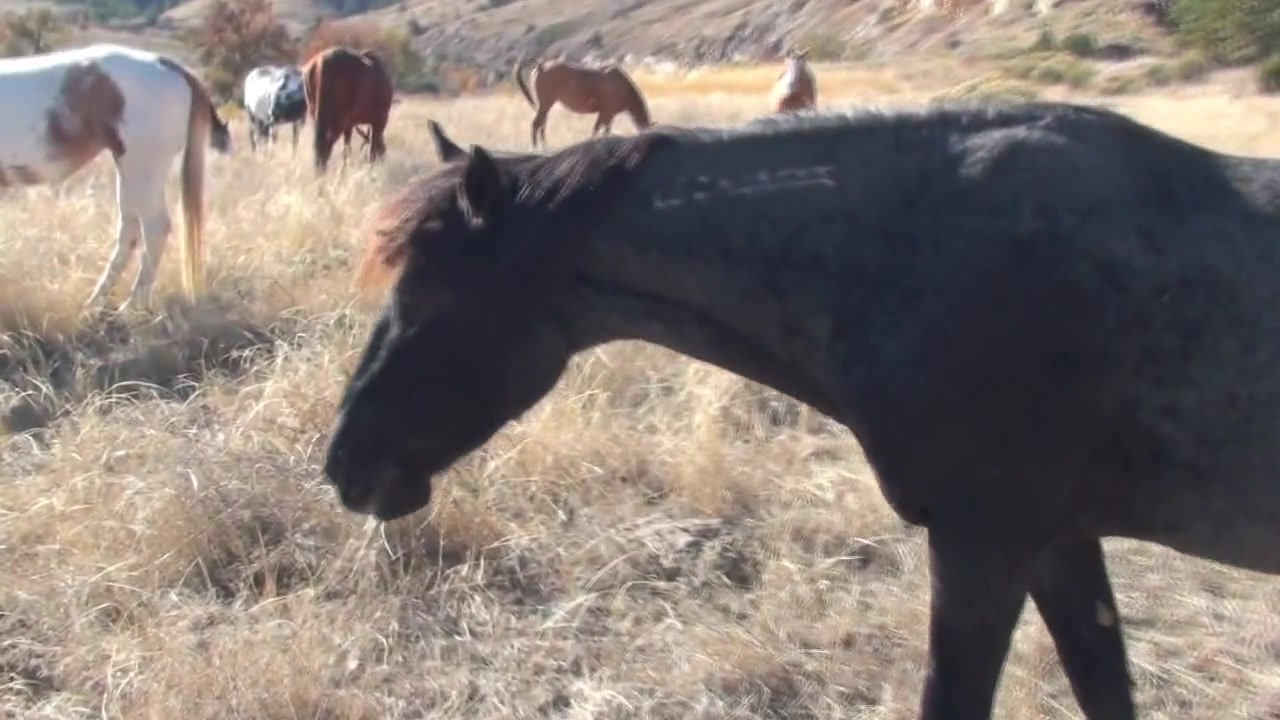horse: (322, 91, 1280, 720)
